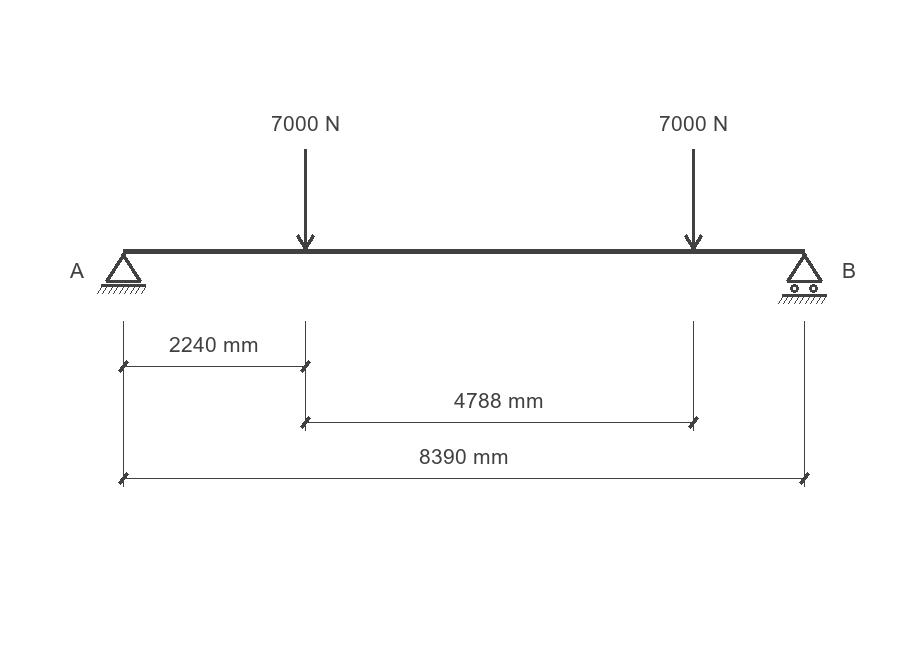pin_support: (97, 253, 146, 294)
point_load: (296, 149, 315, 250), (684, 149, 703, 250)
roller_support: (778, 253, 827, 304)
